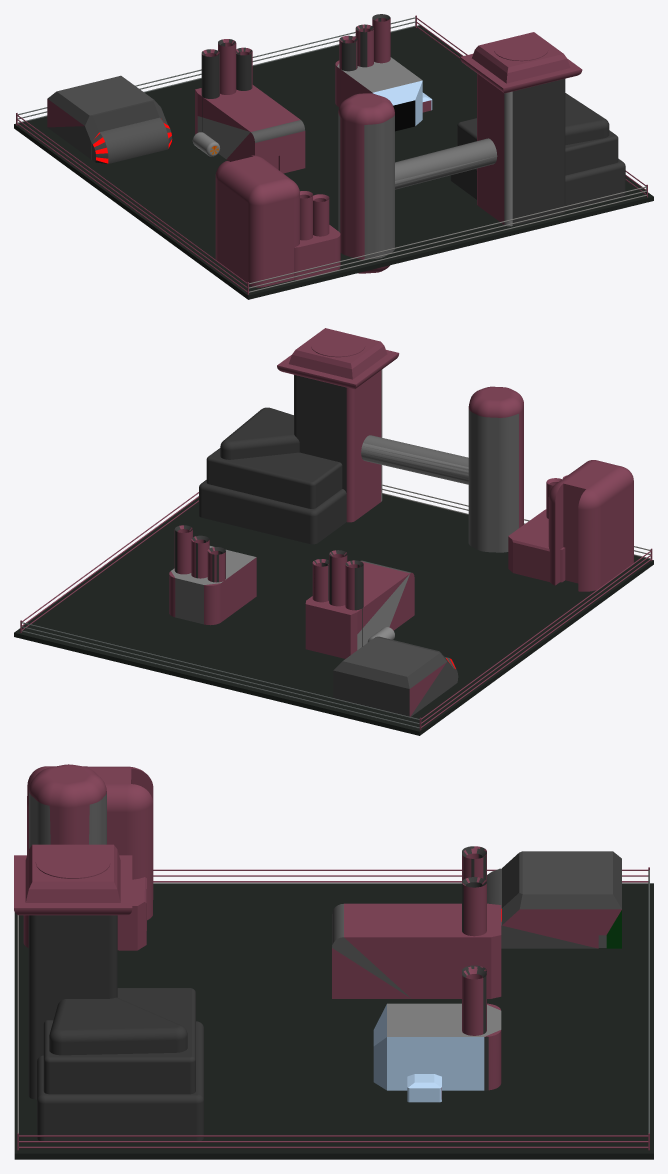
The model's file is world.glb.
3 renders of one model, top to bottom at view 1: azimuth 30°, elevation 25°; view 2: azimuth 150°, elevation 25°; view 3: azimuth 270°, elevation 25°, orthographic. The views are drawn at different scales.
Visible parts, largest first — view 1: Buildings, Ground; view 2: Buildings, Ground; view 3: Buildings, Ground.
Boxes of the visible parts, x1=… form: Buildings: x1=16, y1=14, x2=647, y2=294; Ground: x1=14, y1=25, x2=653, y2=299; Buildings: x1=20, y1=328, x2=652, y2=730; Ground: x1=14, y1=494, x2=653, y2=735; Buildings: x1=14, y1=764, x2=649, y2=1150; Ground: x1=14, y1=883, x2=653, y2=1159.
Size of the model in its own units: 200 by 84.09 by 200.
1 material, 1 textured.
